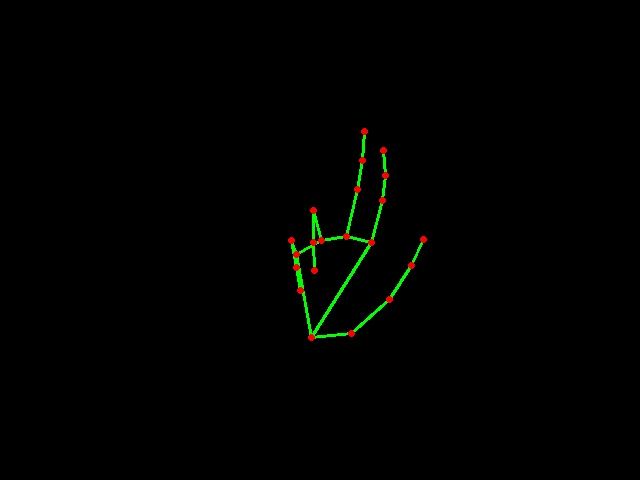forward: (271, 116, 438, 352)
